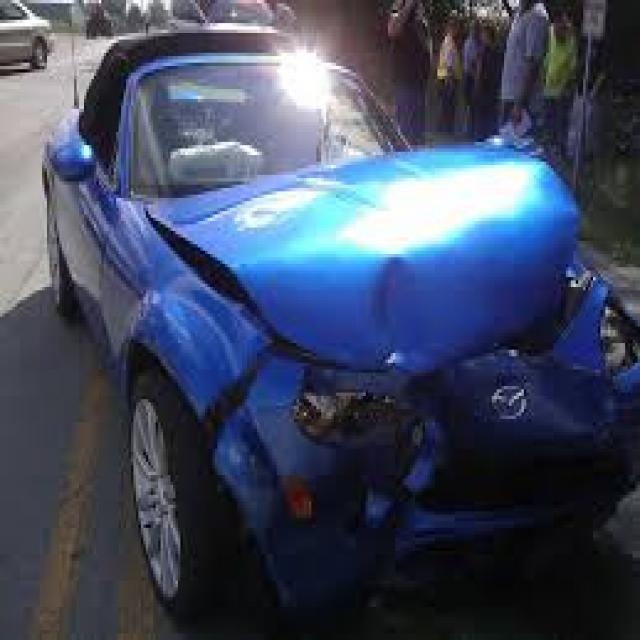severe: (139, 151, 640, 522)
